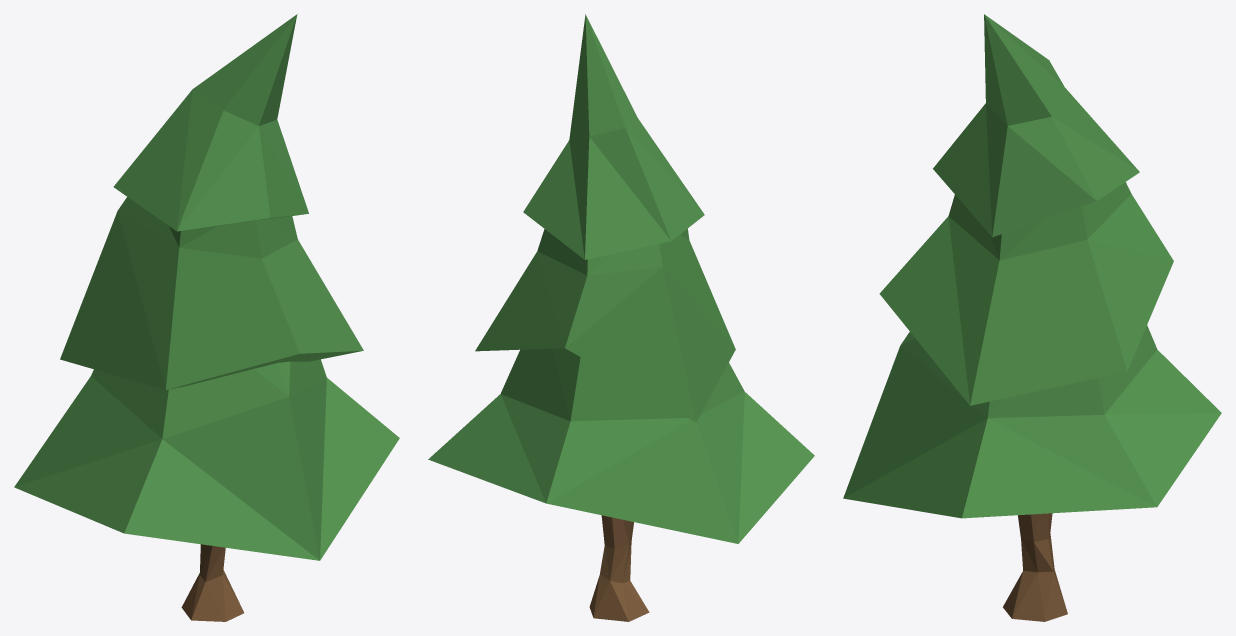
The model's file is tree3d-025.glb.
3 views of the same model, side by side, from view 1: azimuth 30°, elevation 25°; view 2: azimuth 150°, elevation 25°; view 3: azimuth 270°, elevation 25° (orthographic). The views are drawn at different scales.
Parts seen in each view (by area): view 1: tree3d-025; view 2: tree3d-025; view 3: tree3d-025.
Boxes of the visible parts, x1,y1,x2,y2 form: tree3d-025: (14, 14, 399, 621); tree3d-025: (428, 14, 814, 621); tree3d-025: (843, 14, 1221, 621).
Bounding box in the file's own units: 0.5495 × 1 × 0.5492.
